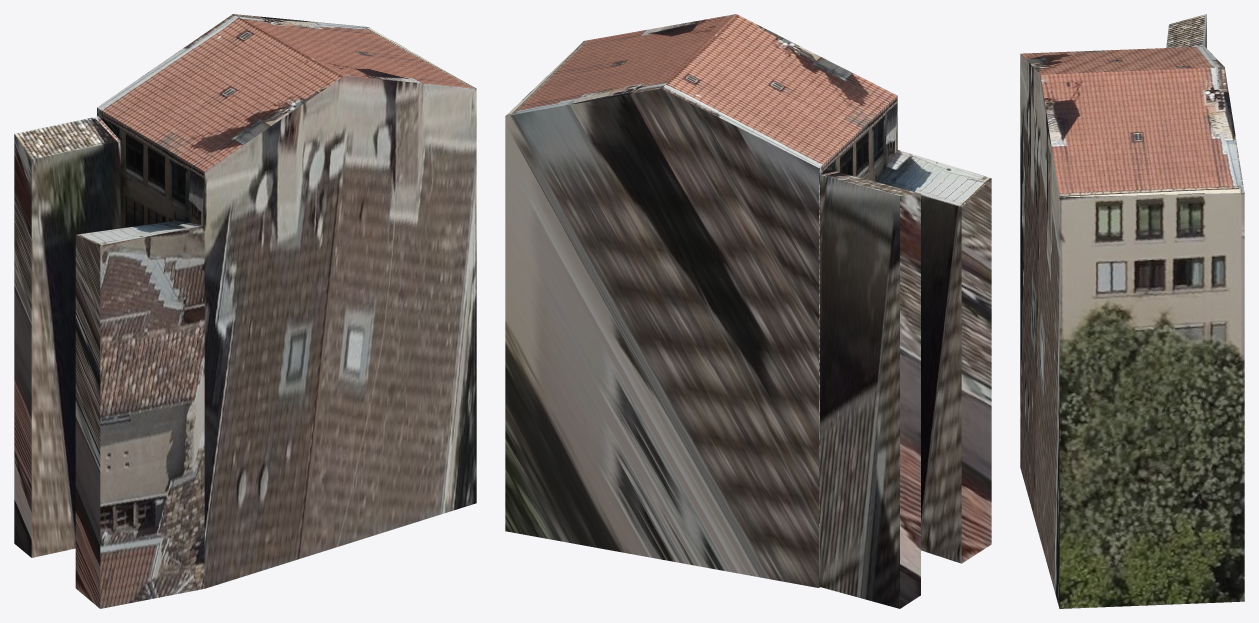
3 renders of one model, left to right at view 1: azimuth 30°, elevation 25°; view 2: azimuth 150°, elevation 25°; view 3: azimuth 270°, elevation 25°, orthographic.
Visible parts, largest first — view 1: Z_UP; view 2: Z_UP; view 3: Z_UP.
Boxes of the visible parts, left/top/right/bottom form: Z_UP: left=14, top=14, right=476, bottom=608; Z_UP: left=505, top=14, right=991, bottom=608; Z_UP: left=1020, top=14, right=1244, bottom=608.
Bounding box in the file's own units: 21.29 × 24.43 × 10.66.
2 materials, 1 textured.
